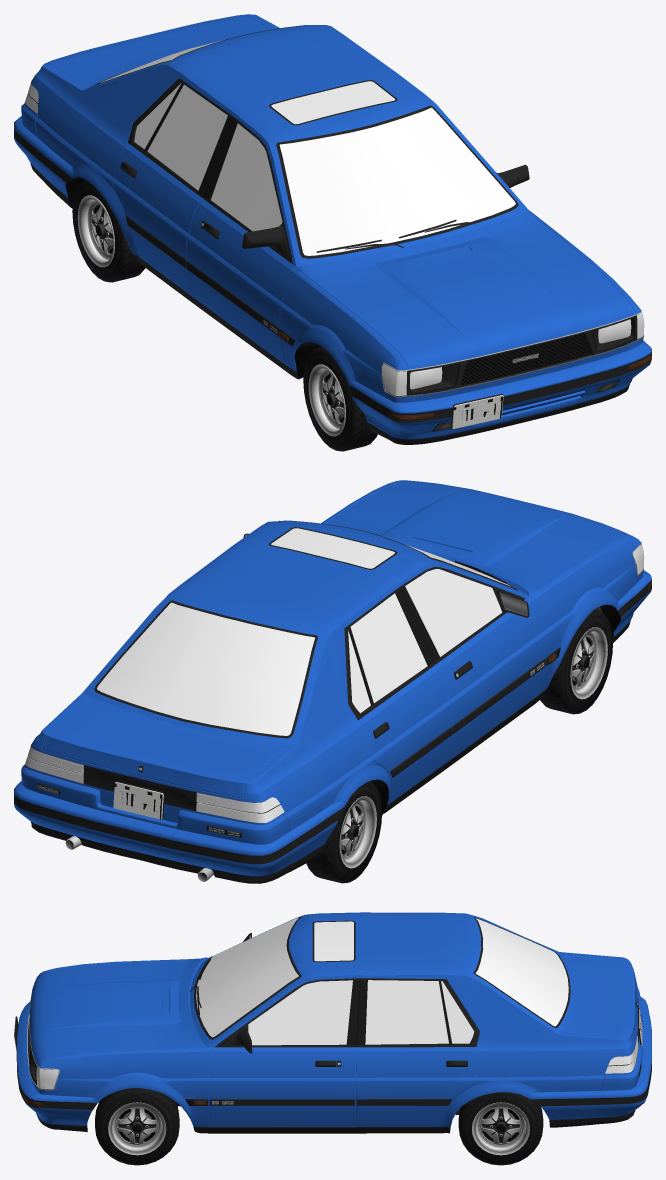
The model's file is kiri86.glb.
The picture shows the model from 3 angles, top to bottom: view 1: azimuth 30°, elevation 25°; view 2: azimuth 150°, elevation 25°; view 3: azimuth 270°, elevation 25°; orthographic projection. The views are drawn at different scales.
Parts seen in each view (by area): view 1: kiri86; view 2: kiri86; view 3: kiri86.
Part boxes in pixels (x1,y1,x2,y2): kiri86: (14,14,651,451); kiri86: (14,480,651,883); kiri86: (14,912,651,1165).
Size of the model in its own units: 1.76 by 1.32 by 4.31.
Materials: 8 (6 with a texture image).
